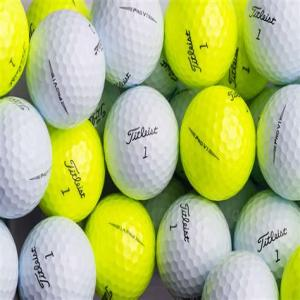Golf: (26, 11, 104, 130), (105, 84, 180, 202), (157, 193, 231, 300), (84, 191, 154, 300), (0, 88, 54, 224), (35, 115, 103, 217), (19, 215, 98, 300), (90, 0, 164, 89), (232, 195, 300, 290), (165, 0, 238, 87), (257, 82, 300, 200), (245, 0, 300, 84), (199, 246, 280, 300)
